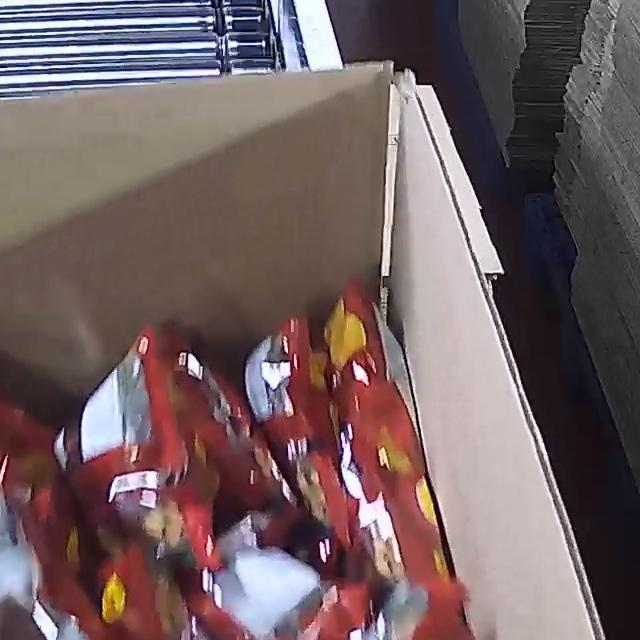masala: (0, 282, 520, 640)
